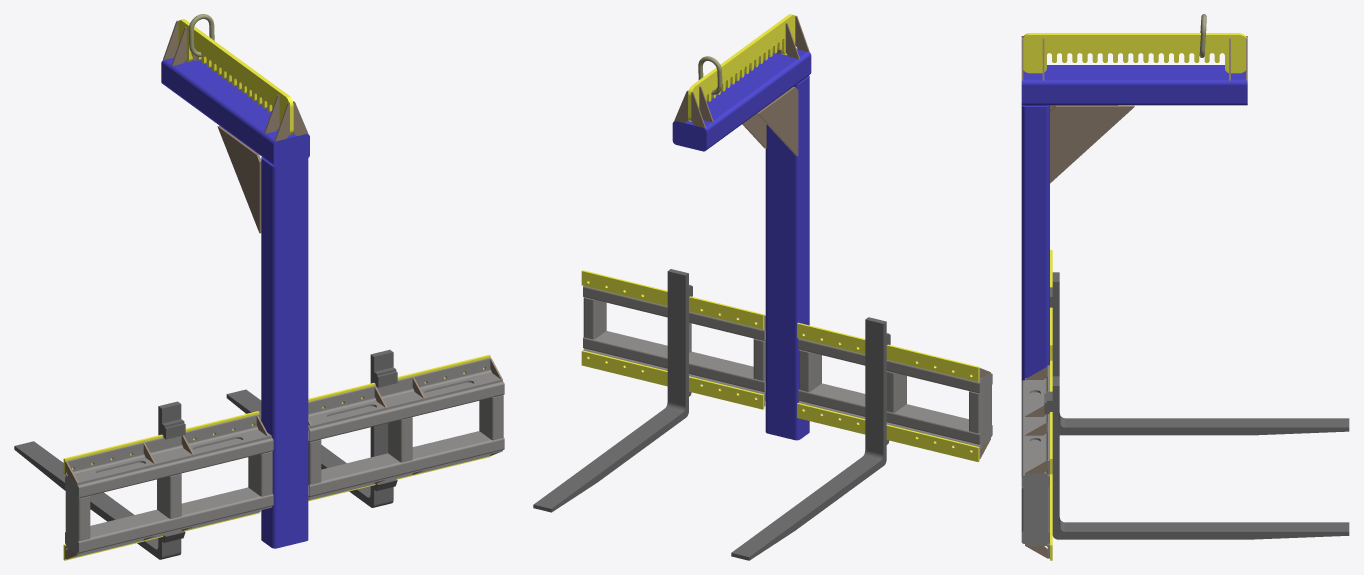
Rendered from GARFO.glb.
3 views of the same model, side by side, from view 1: azimuth 30°, elevation 25°; view 2: azimuth 150°, elevation 25°; view 3: azimuth 270°, elevation 25° (orthographic). The views are drawn at different scales.
Parts seen in each view (by area): view 1: matte steel, color, color-5, color-3, polished steel; view 2: color, matte steel, color-3, color-5, polished steel; view 3: color, color-5, color-3, polished steel, matte steel.
Part boxes in pixels (x1,y1,x2,y2): matte steel: [65, 357, 504, 558]; color: [161, 57, 309, 548]; color-5: [14, 349, 397, 559]; color-3: [63, 19, 490, 560]; polished steel: [66, 20, 502, 559]; color: [672, 48, 811, 440]; matte steel: [583, 281, 992, 458]; color-3: [581, 14, 979, 461]; color-5: [533, 269, 890, 560]; polished steel: [674, 15, 990, 457]; color: [1021, 65, 1247, 381]; color-5: [1044, 272, 1349, 539]; color-3: [1022, 33, 1246, 560]; polished steel: [1021, 36, 1247, 558]; matte steel: [1021, 365, 1049, 558].
Bounding box in the file's own units: 1.75 × 1.82 × 1.16.
